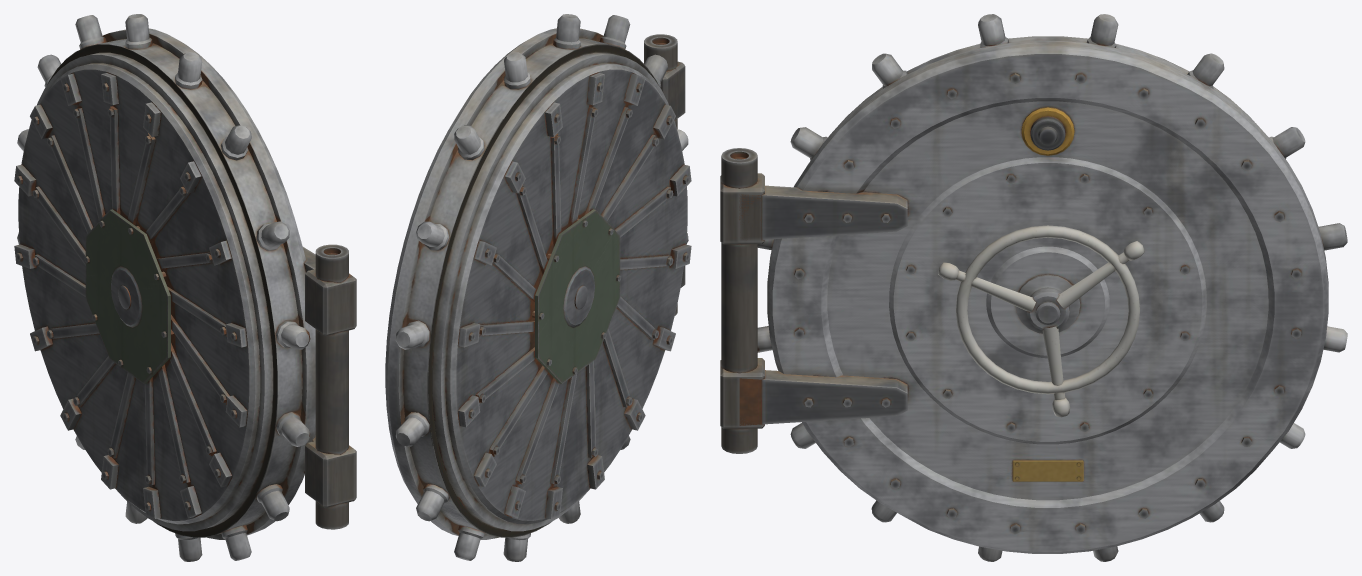
Rendered from SM_VaultDoor_Open.glb.
3 renders of one model, left to right at view 1: azimuth 30°, elevation 25°; view 2: azimuth 150°, elevation 25°; view 3: azimuth 270°, elevation 25°, orthographic. The views are drawn at different scales.
Parts seen in each view (by area): view 1: SM_VaultDoor_Open; view 2: SM_VaultDoor_Open; view 3: SM_VaultDoor_Open.
Part boxes in pixels (x1,y1,x2,y2): SM_VaultDoor_Open: (14, 14, 356, 561); SM_VaultDoor_Open: (385, 14, 691, 561); SM_VaultDoor_Open: (720, 14, 1347, 561).
Size of the model in its own units: 0.731 by 3.89 by 4.07.
Materials: 1 (1 with a texture image).
